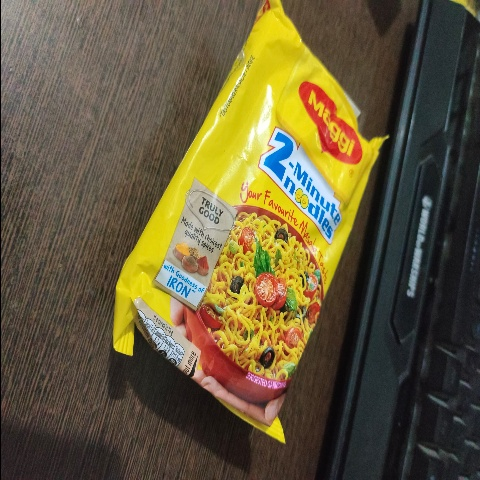maggi: (105, 19, 406, 434)
